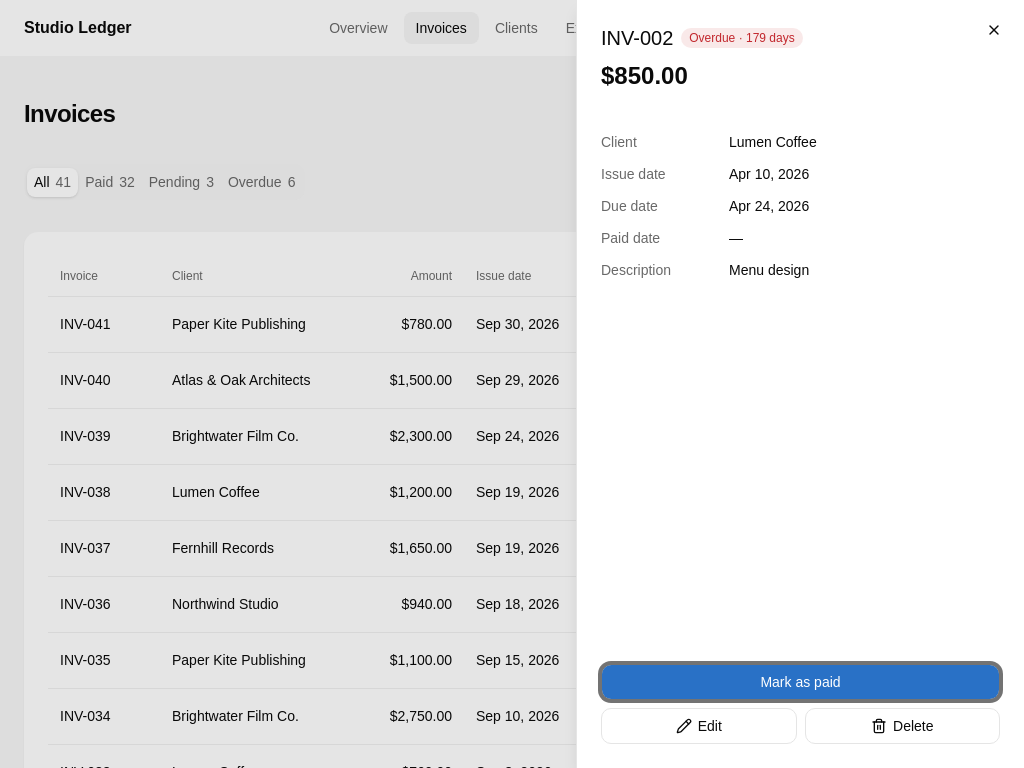
it: Confirmation toasts (UX-4) › saving an edited invoice confirms with a toast
This screenshot has width=1024, height=768.
Click the button "Edit": (699, 726) [601, 708, 796, 744]
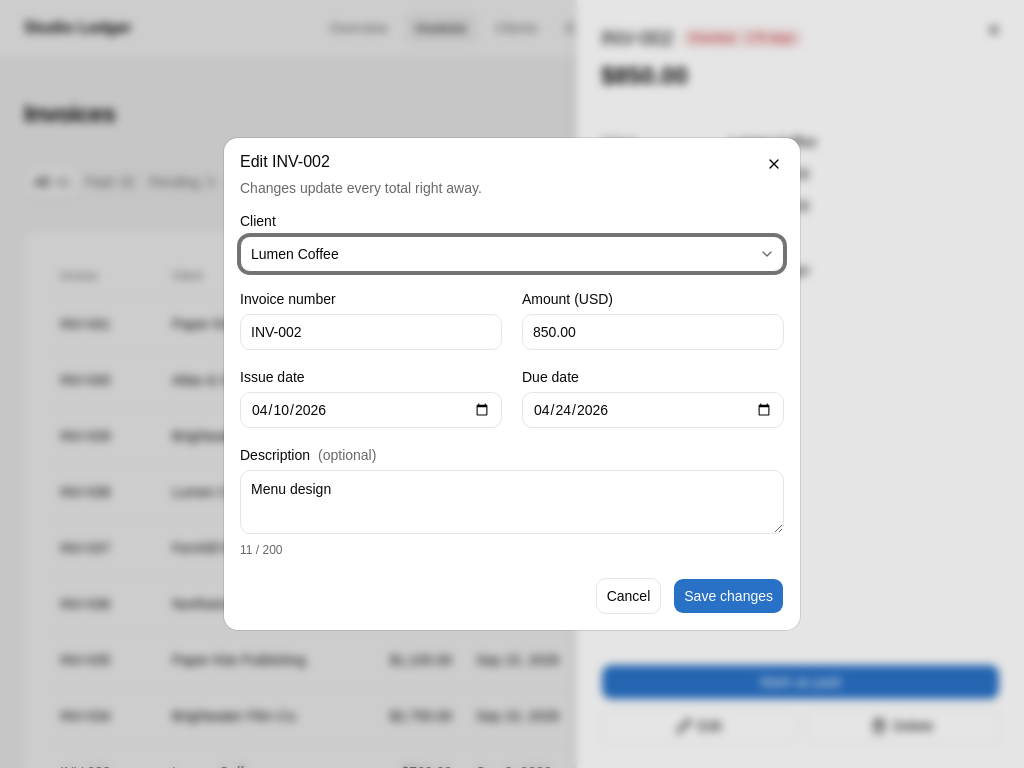
Click the button "Save changes": (729, 596) [673, 578, 784, 614]
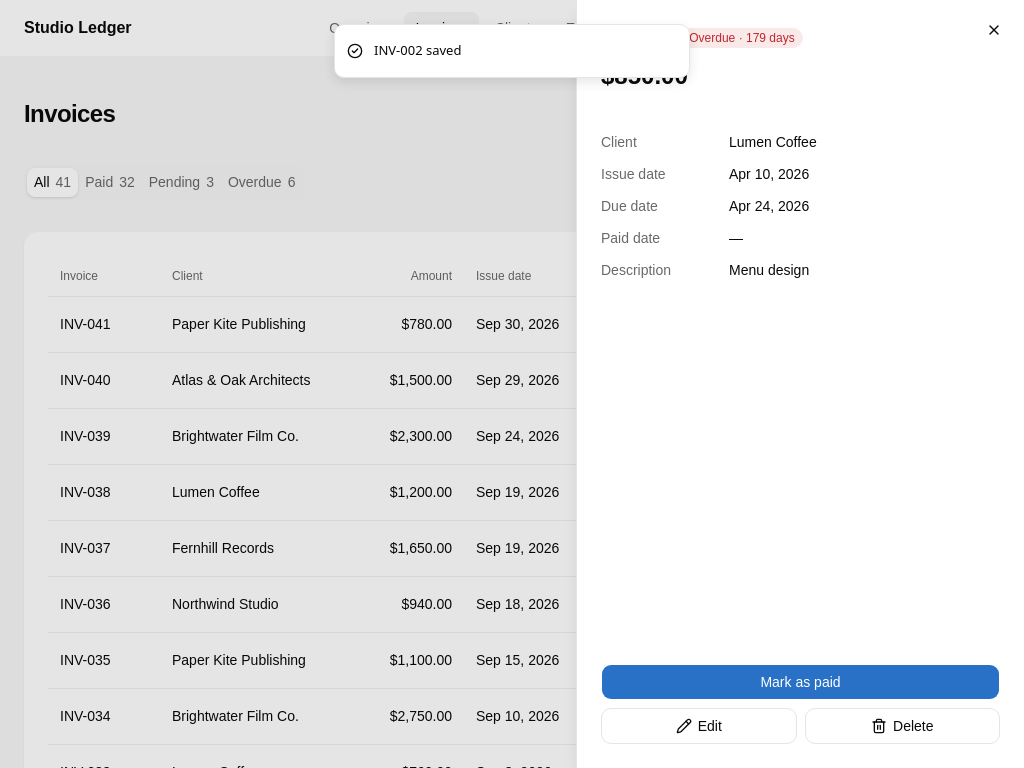
Check: the text "INV-002 saved" is shown, box [374, 41, 461, 60]
